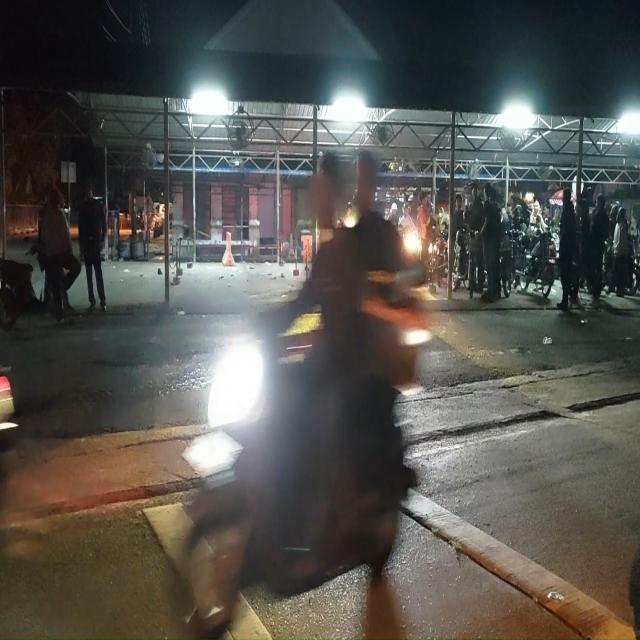Golongan II: (180, 301, 429, 637), (0, 247, 67, 331), (516, 232, 556, 298), (602, 239, 640, 295), (400, 225, 426, 284), (452, 228, 469, 291), (500, 234, 515, 298), (468, 230, 481, 299)
